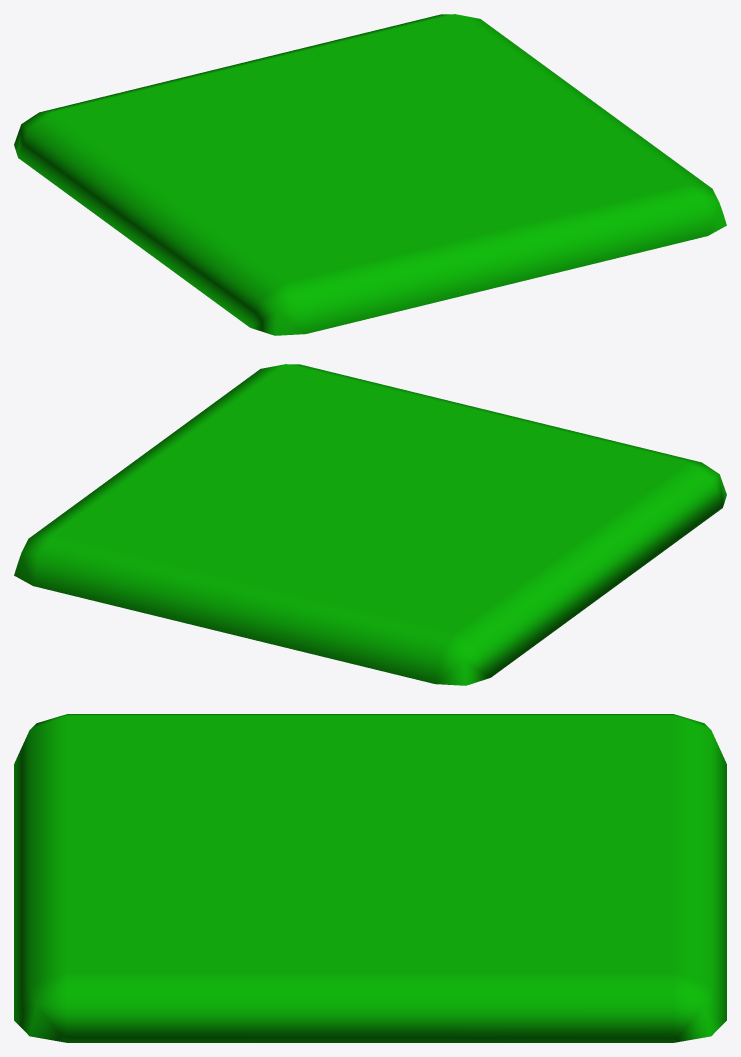
3 views of the same model, one above another, from view 1: azimuth 30°, elevation 25°; view 2: azimuth 150°, elevation 25°; view 3: azimuth 270°, elevation 25° (orthographic). The views are drawn at different scales.
Parts seen in each view (by area): view 1: Plane.001; view 2: Plane.001; view 3: Plane.001.
Boxes of the visible parts, bbox=[...] form: Plane.001: bbox=[14, 14, 726, 335]; Plane.001: bbox=[14, 364, 726, 685]; Plane.001: bbox=[14, 714, 726, 1042].
Size of the model in its own units: 2 by 0.15 by 2.
